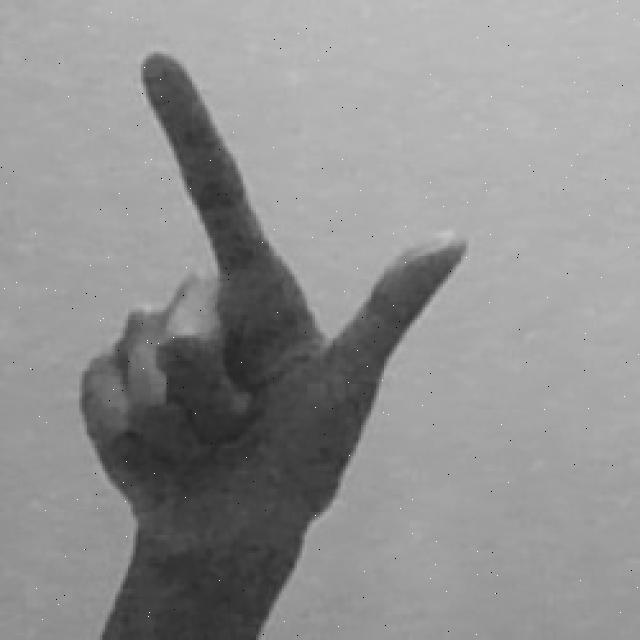L: (69, 43, 481, 640)
